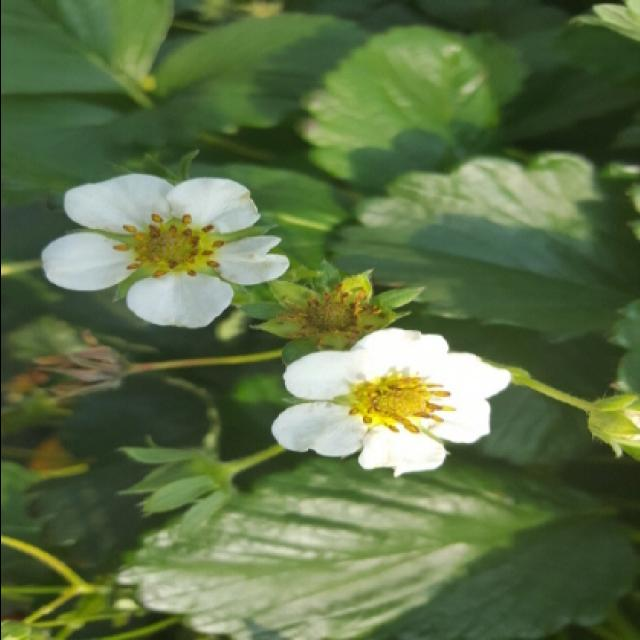Blossom Blight: (327, 371, 460, 441), (107, 209, 227, 283), (280, 279, 386, 346)
